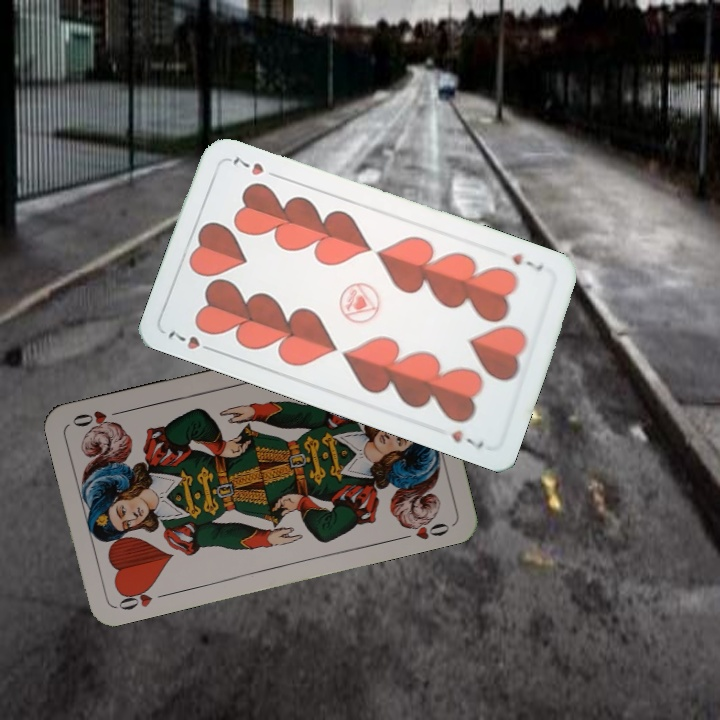H7: (164, 327, 219, 356), (508, 249, 546, 275)
HO: (112, 581, 171, 613)
